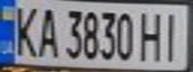0: (115, 8, 139, 61)
3: (60, 4, 84, 60), (100, 8, 121, 61)
8: (78, 7, 100, 61)
A: (33, 2, 60, 58)
H: (136, 8, 166, 62)
I: (157, 8, 187, 62)
K: (6, 1, 42, 58)
